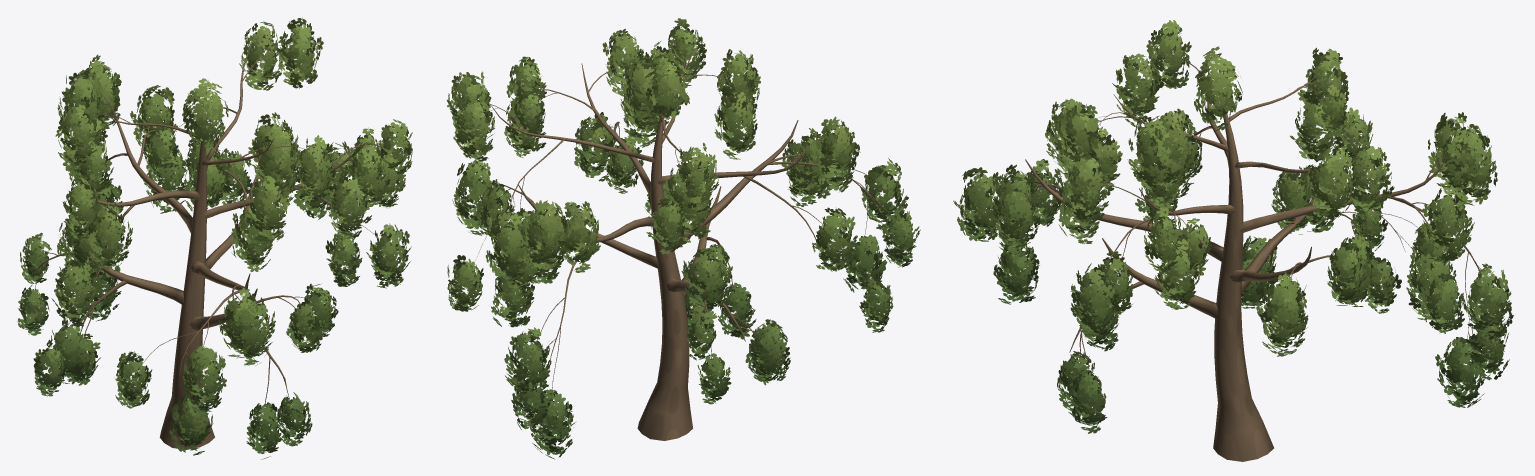
File: tree.gltf
3 renders of one model, left to right at view 1: azimuth 30°, elevation 25°; view 2: azimuth 150°, elevation 25°; view 3: azimuth 270°, elevation 25°, orthographic. The views are drawn at different scales.
Parts seen in each view (by area): view 1: Tree_LOD0; view 2: Tree_LOD0; view 3: Tree_LOD0.
Part boxes in pixels (x1,y1,x2,y2): Tree_LOD0: (17,17,412,459); Tree_LOD0: (446,18,920,459); Tree_LOD0: (953,20,1513,461).
Bounding box in the file's own units: 19.54 × 17.79 × 22.68.
Materials: 2 (2 with a texture image).
